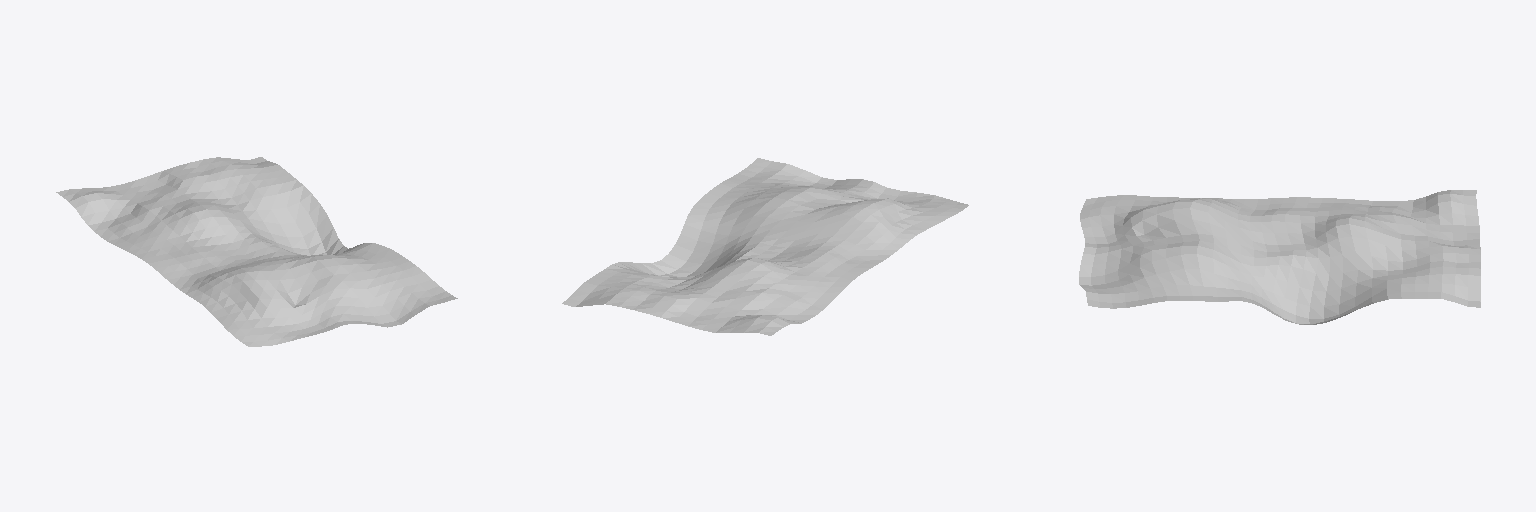
Rendered from water.obj.
3 views of the same model, side by side, from view 1: azimuth 30°, elevation 25°; view 2: azimuth 150°, elevation 25°; view 3: azimuth 270°, elevation 25° (orthographic).
Visible parts, largest first — view 1: Plane; view 2: Plane; view 3: Plane.
Boxes of the visible parts, x1=… form: Plane: x1=56, y1=157, x2=457, y2=346; Plane: x1=562, y1=158, x2=968, y2=335; Plane: x1=1079, y1=190, x2=1480, y2=324.
Bounding box in the file's own units: 3.16 × 0.8109 × 5.15.